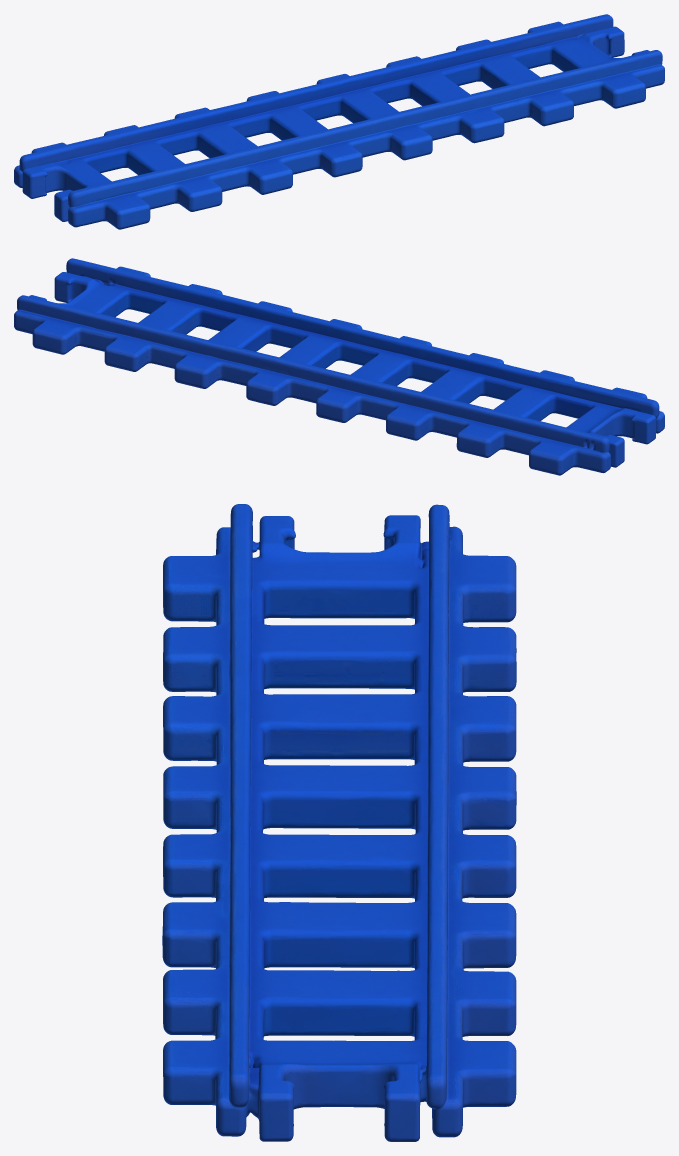
File: Blue_Rail.fbx
3 renders of one model, top to bottom at view 1: azimuth 30°, elevation 25°; view 2: azimuth 150°, elevation 25°; view 3: azimuth 270°, elevation 25°, orthographic. The views are drawn at different scales.
Parts seen in each view (by area): view 1: Blue_Rail; view 2: Blue_Rail; view 3: Blue_Rail.
Part boxes in pixels (bbox=[...]): Blue_Rail: bbox=[14, 14, 664, 229]; Blue_Rail: bbox=[14, 258, 664, 475]; Blue_Rail: bbox=[162, 504, 516, 1141].
Size of the model in its own units: 1.9 by 0.1027 by 0.4902.
1 material, 1 textured.
